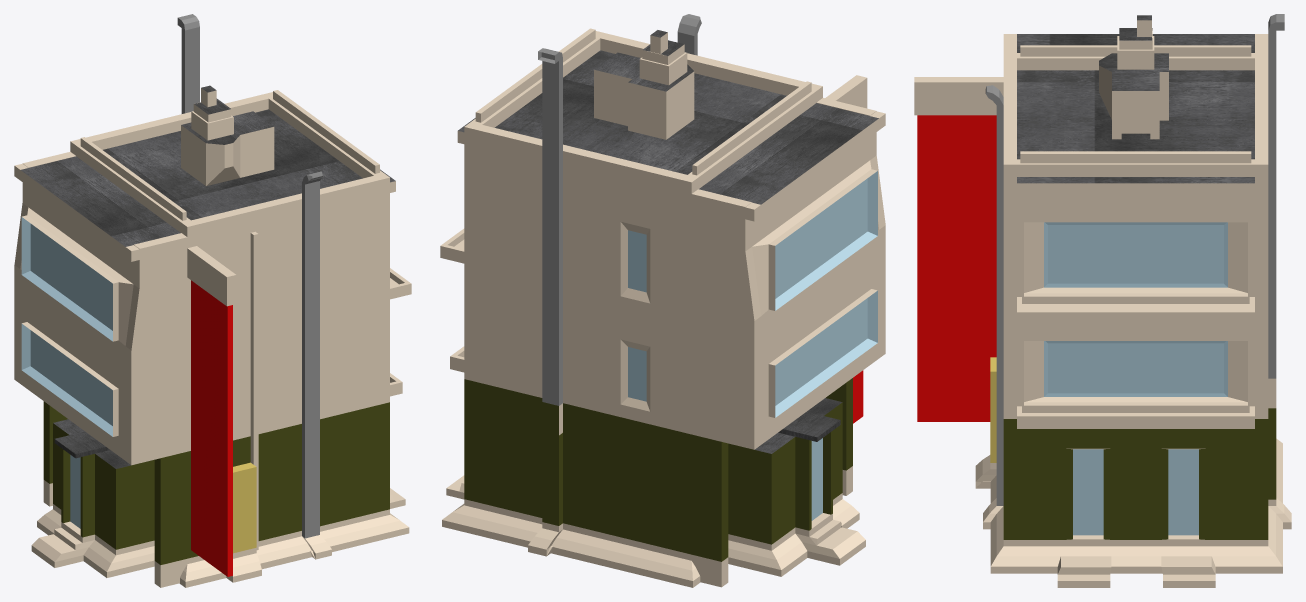
File: buildin.glb
3 renders of one model, left to right at view 1: azimuth 30°, elevation 25°; view 2: azimuth 150°, elevation 25°; view 3: azimuth 270°, elevation 25°, orthographic. The views are drawn at different scales.
Visible parts, largest first — view 1: Object_2, Object_3, Object_7, Object_4, Object_8, Object_9, Object_5; view 2: Object_2, Object_3, Object_7, Object_8, Object_9; view 3: Object_2, Object_8, Object_3, Object_4, Object_7, Object_9, Object_5.
Part boxes in pixels (x1=…): Object_2: x1=14, y1=88, x2=411, y2=587; Object_3: x1=43, y1=401, x2=389, y2=564; Object_7: x1=21, y1=85, x2=395, y2=468; Object_4: x1=191, y1=280, x2=232, y2=576; Object_8: x1=21, y1=217, x2=112, y2=528; Object_9: x1=177, y1=14, x2=323, y2=538; Object_5: x1=233, y1=462, x2=256, y2=553; Object_2: x1=440, y1=28, x2=885, y2=587; Object_3: x1=464, y1=378, x2=852, y2=561; Object_7: x1=458, y1=30, x2=878, y2=453; Object_8: x1=628, y1=171, x2=877, y2=520; Object_9: x1=538, y1=14, x2=701, y2=405; Object_2: x1=914, y1=20, x2=1291, y2=587; Object_8: x1=1044, y1=222, x2=1227, y2=535; Object_3: x1=1003, y1=408, x2=1276, y2=539; Object_4: x1=917, y1=115, x2=996, y2=421; Object_7: x1=1017, y1=15, x2=1254, y2=183; Object_9: x1=985, y1=14, x2=1284, y2=505; Object_5: x1=990, y1=357, x2=996, y2=462.
Size of what is drawn, in the model's own units: 3.23 by 4.2 by 2.85.
Materials: 7 (1 with a texture image).
